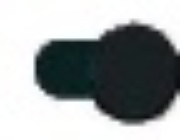Switch: (1, 1, 179, 139)
